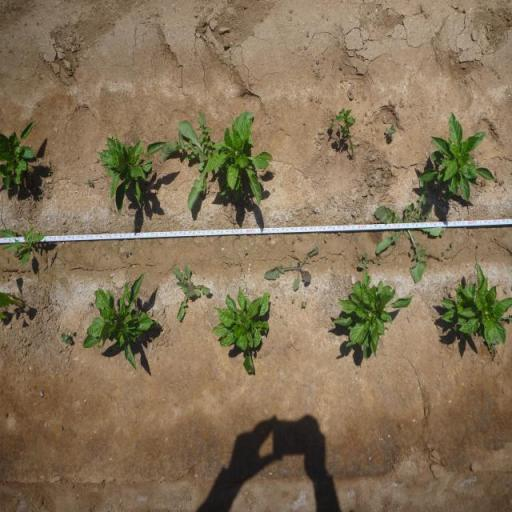plant: (81, 270, 160, 375), (331, 270, 413, 362), (420, 110, 497, 206), (208, 110, 275, 208), (437, 262, 512, 348), (97, 135, 165, 217), (212, 284, 270, 378), (0, 118, 37, 193)
weed: (374, 187, 444, 283), (163, 110, 209, 212), (262, 246, 320, 292), (171, 264, 211, 322), (326, 104, 358, 160), (0, 226, 44, 266), (59, 328, 75, 346), (383, 123, 398, 141), (358, 251, 370, 270), (444, 240, 456, 251), (10, 250, 21, 258), (86, 178, 94, 188), (300, 300, 308, 309), (45, 165, 51, 176), (372, 260, 382, 266), (87, 300, 94, 308), (125, 250, 132, 258), (297, 235, 304, 243), (243, 250, 250, 256), (499, 179, 505, 186), (440, 251, 446, 257), (268, 234, 272, 240), (324, 236, 327, 243), (292, 299, 295, 305), (292, 248, 296, 252)
